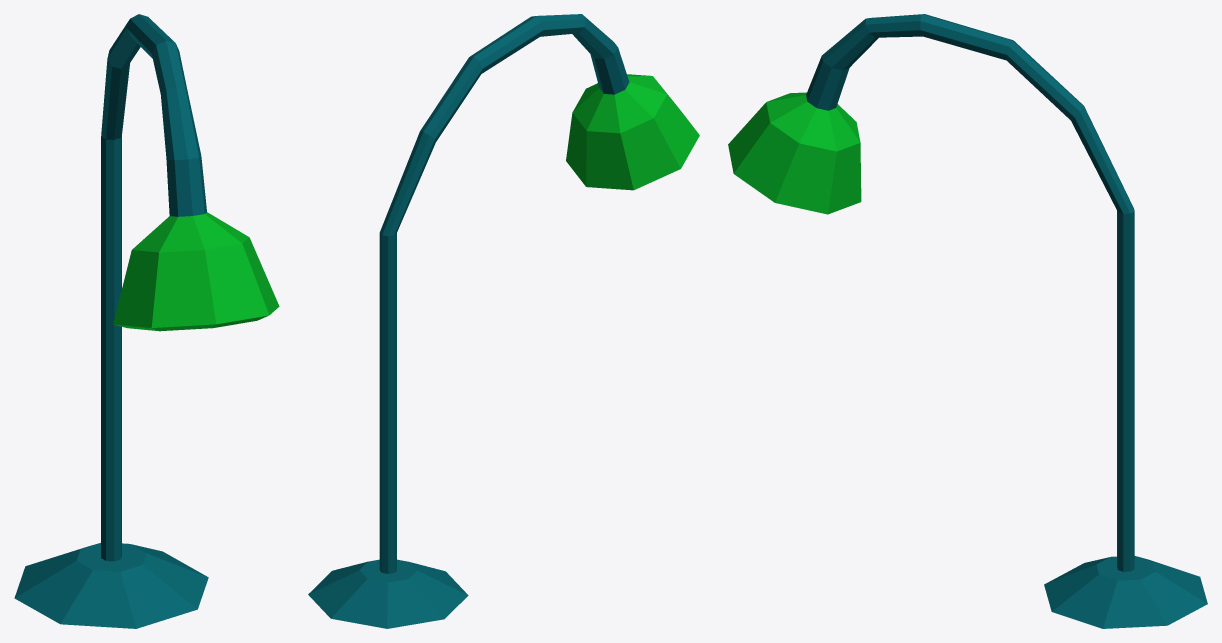
File: Lamp.fbx
3 views of the same model, side by side, from view 1: azimuth 30°, elevation 25°; view 2: azimuth 150°, elevation 25°; view 3: azimuth 270°, elevation 25° (orthographic). The views are drawn at different scales.
Visible parts, largest first — view 1: Lamp; view 2: Lamp; view 3: Lamp.
Boxes of the visible parts, x1,y1,x2,y2 form: Lamp: [14, 14, 279, 628]; Lamp: [308, 14, 699, 628]; Lamp: [728, 14, 1207, 628].
Size of the model in its own units: 397 by 930 by 732.
